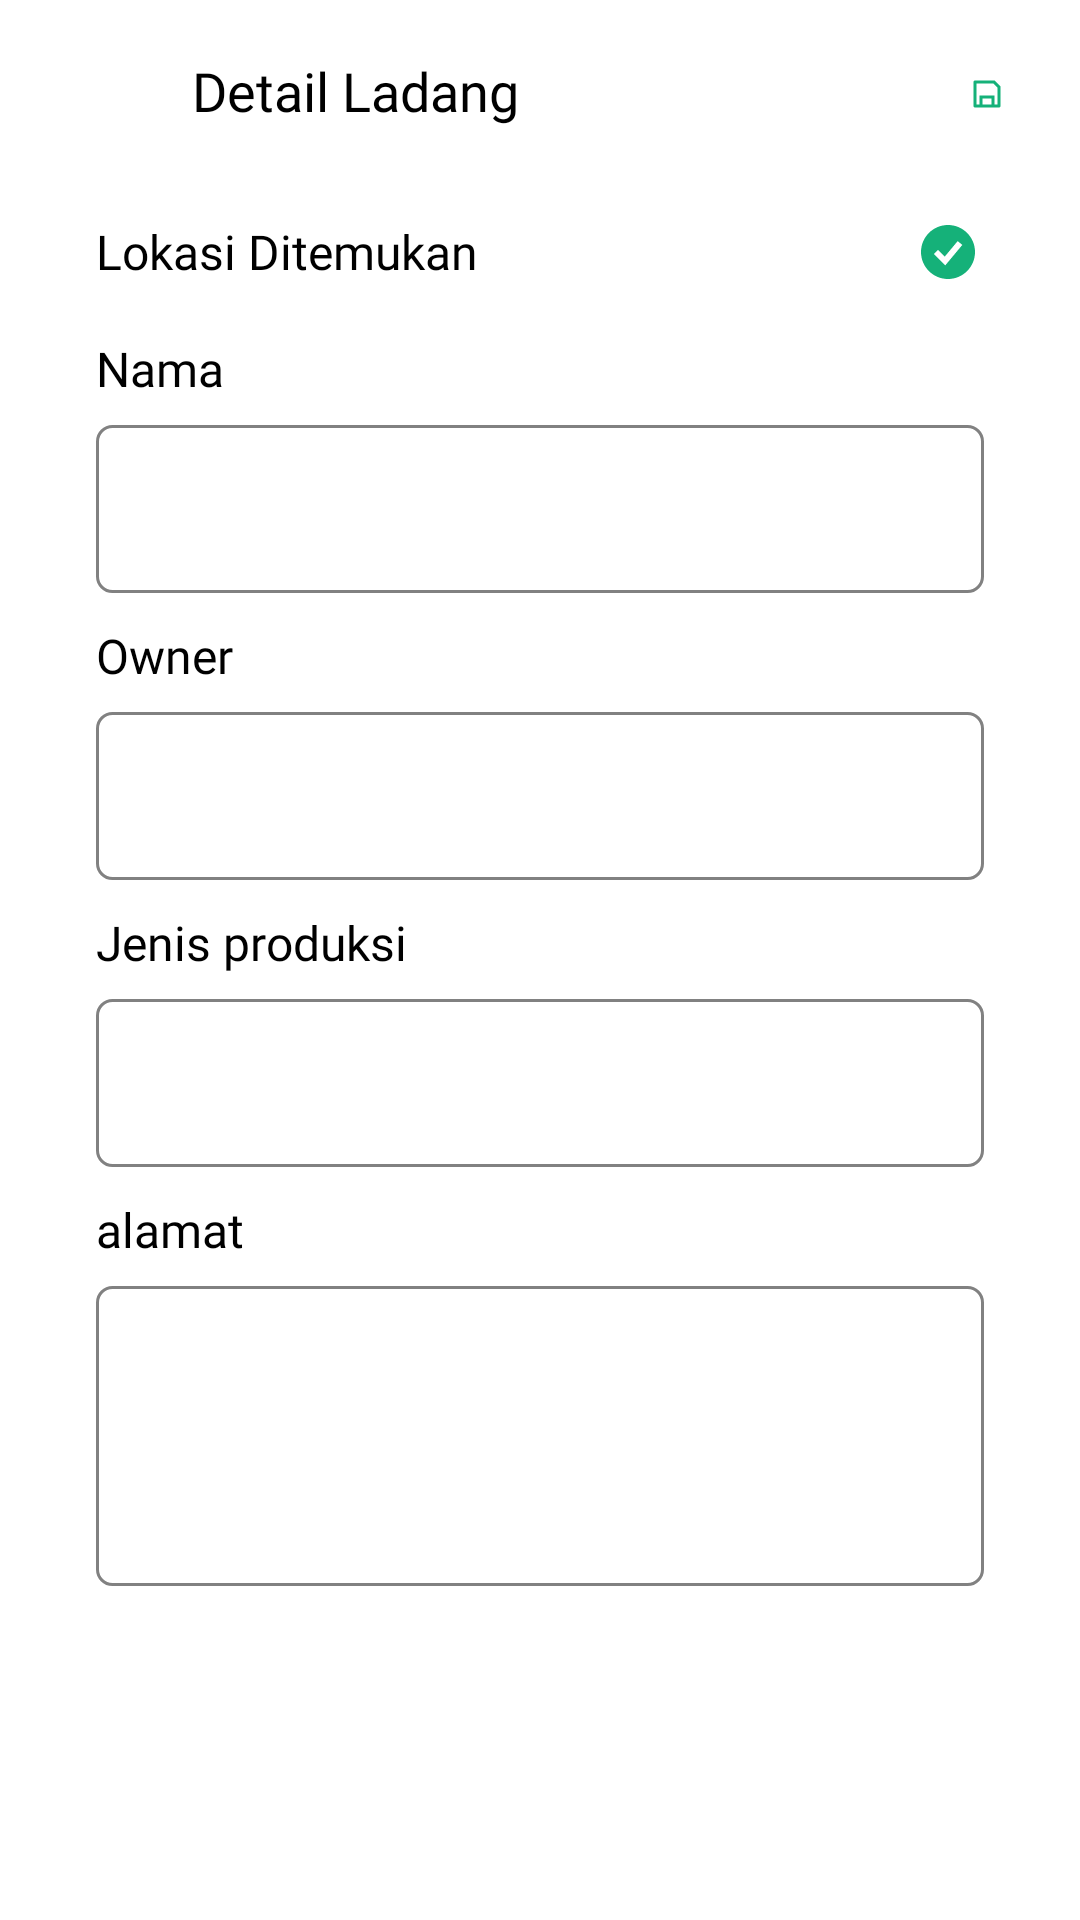

Icons on this 1080px x 1920px Android screen, each with its box as [x1=x1, y1=y1, x2=x2, y2=y2]:
save: [x1=973, y1=80, x2=1001, y2=108]
